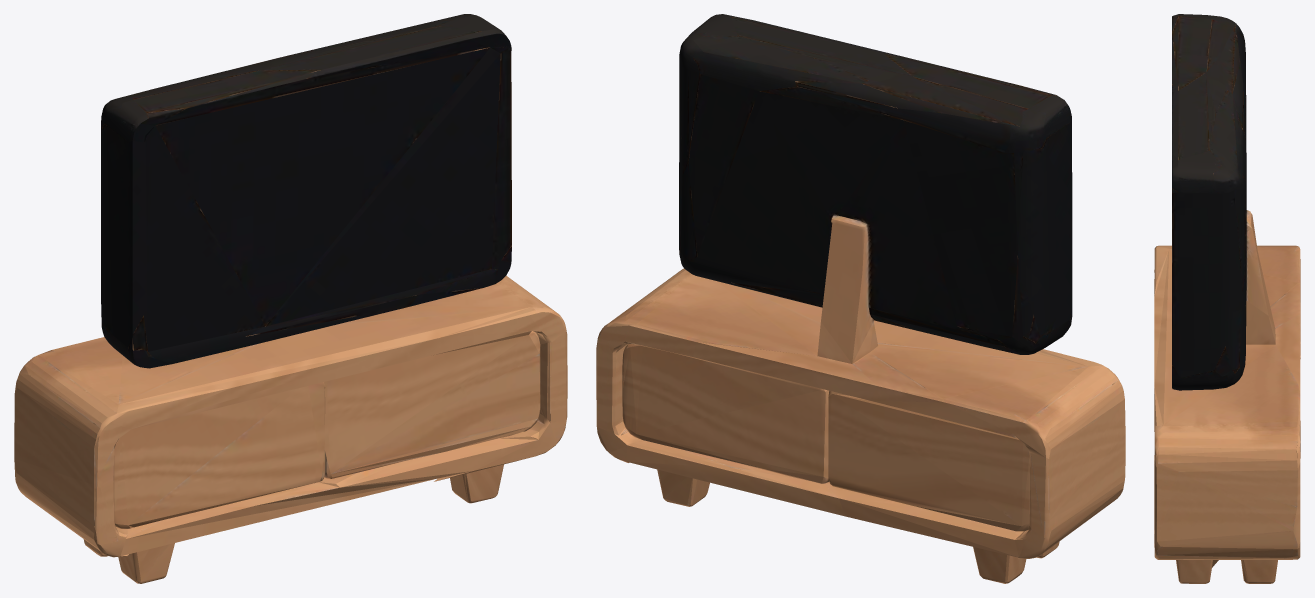
3 views of the same model, side by side, from view 1: azimuth 30°, elevation 25°; view 2: azimuth 150°, elevation 25°; view 3: azimuth 270°, elevation 25° (orthographic). The views are drawn at different scales.
Bounding box in the file's own units: 1.4 × 1.33 × 0.4227.
1 material, 1 textured.
